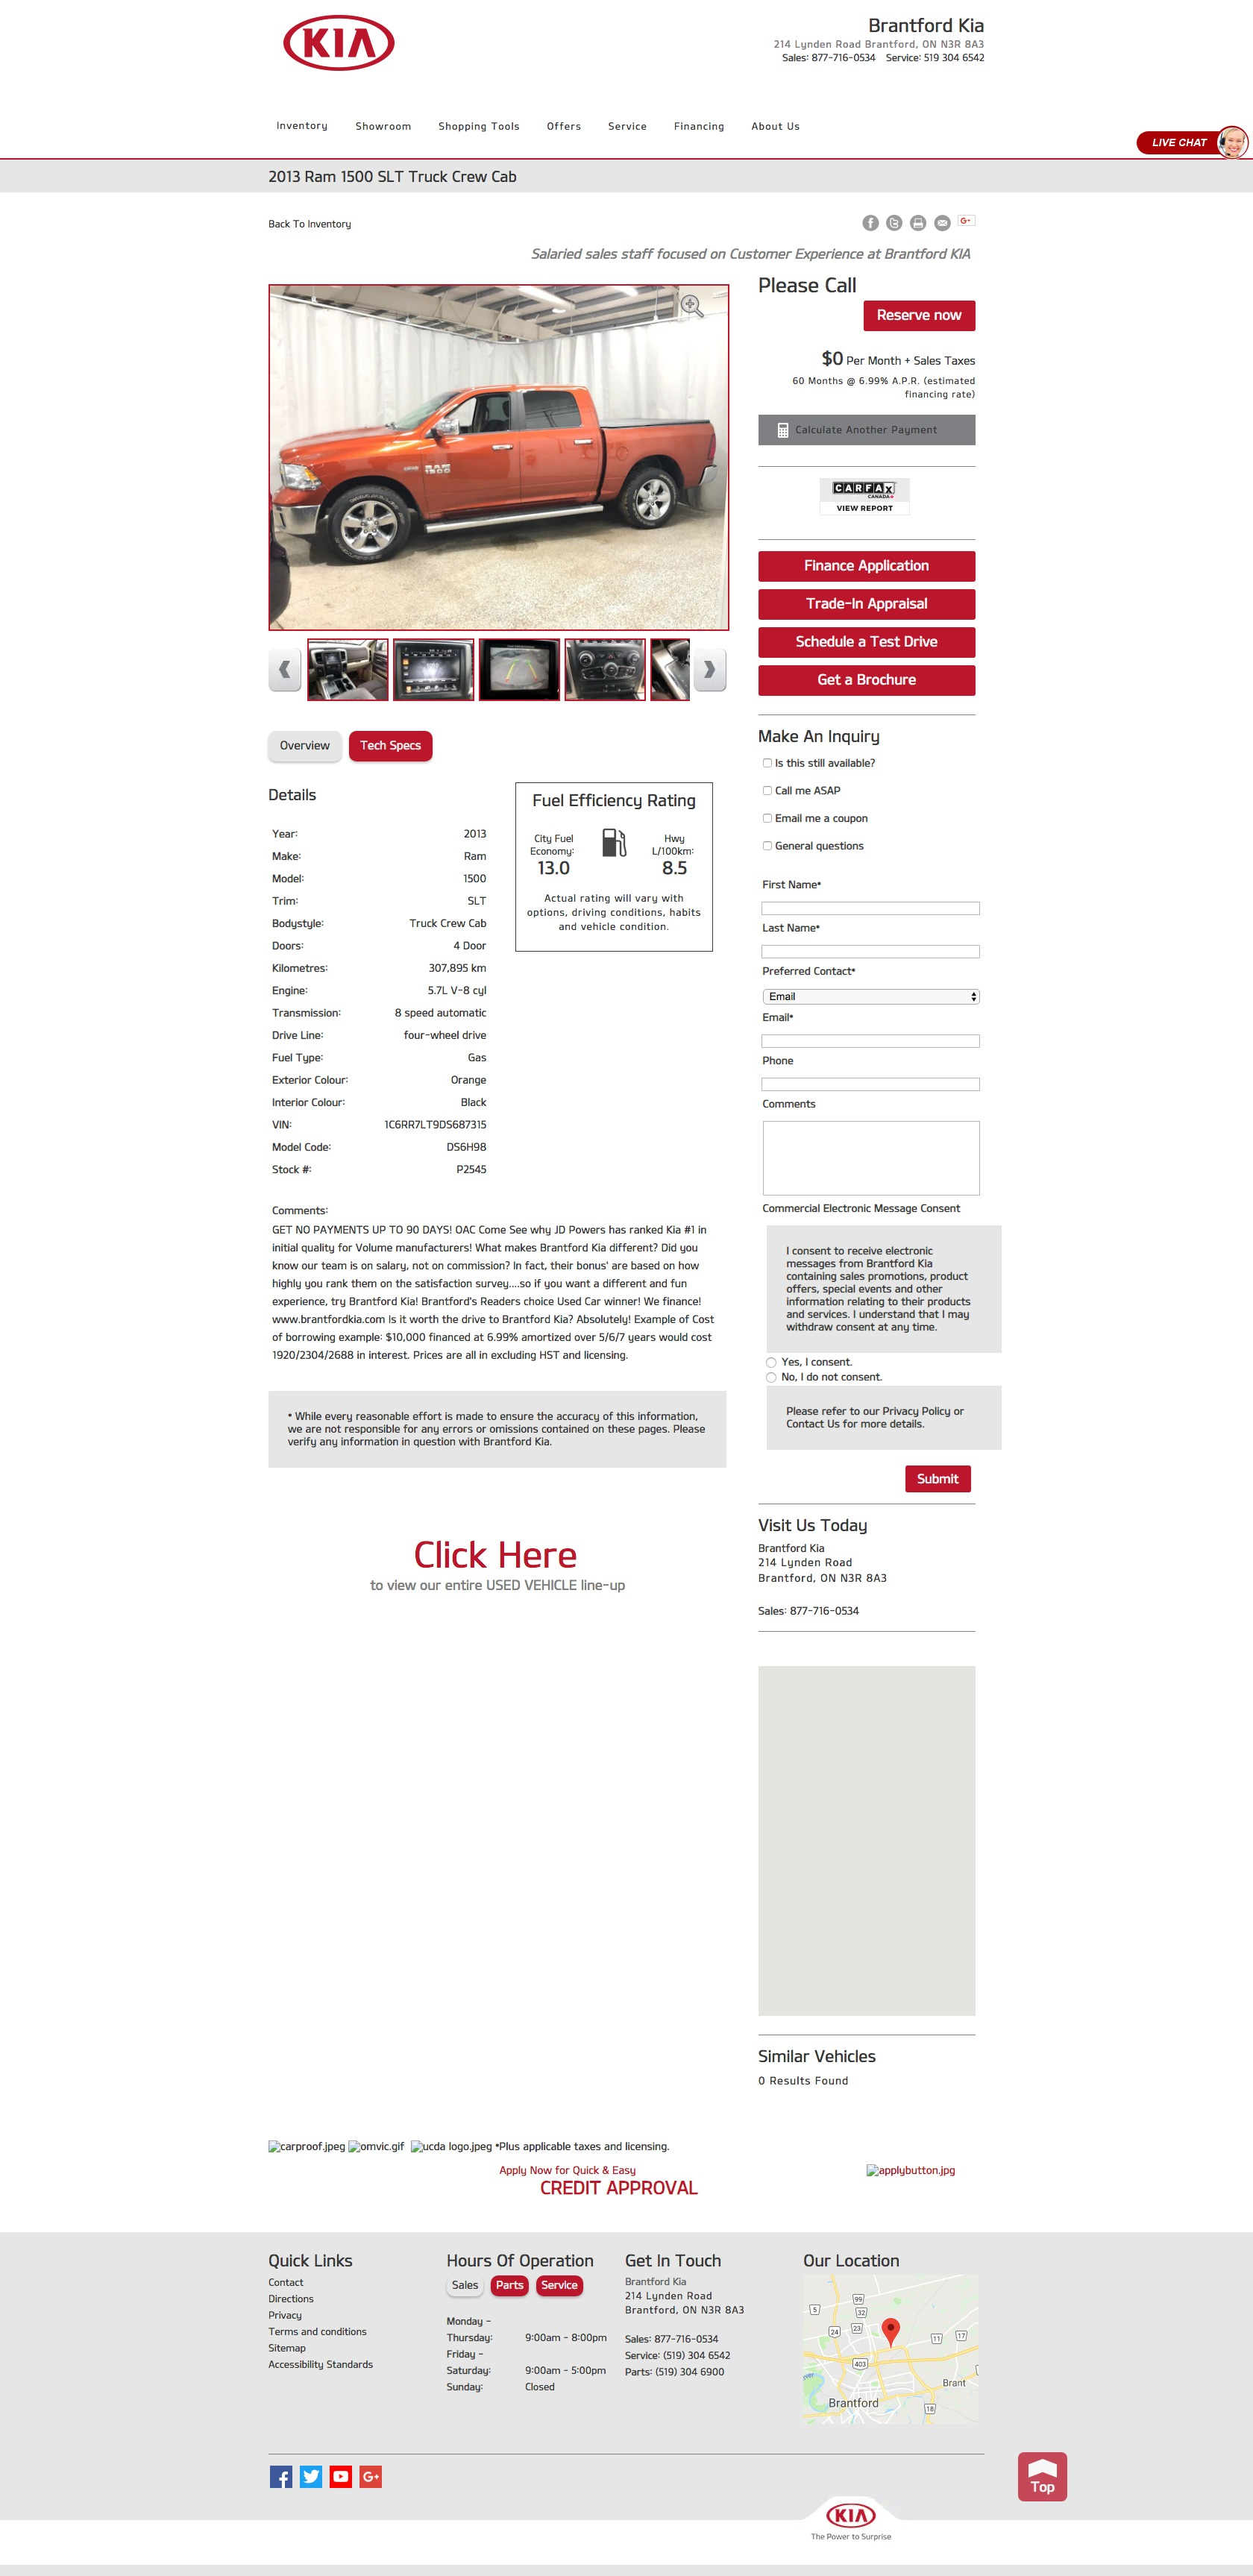car: (693, 649, 729, 693)
